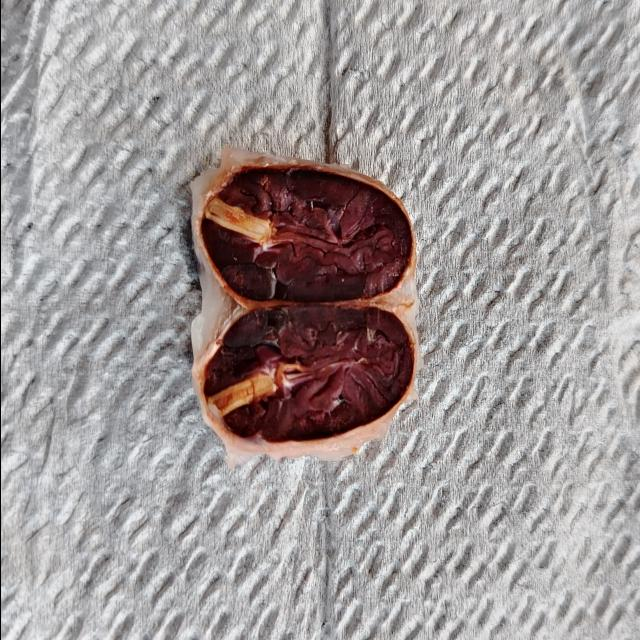Forastero: (203, 297, 410, 446), (202, 184, 410, 300)
